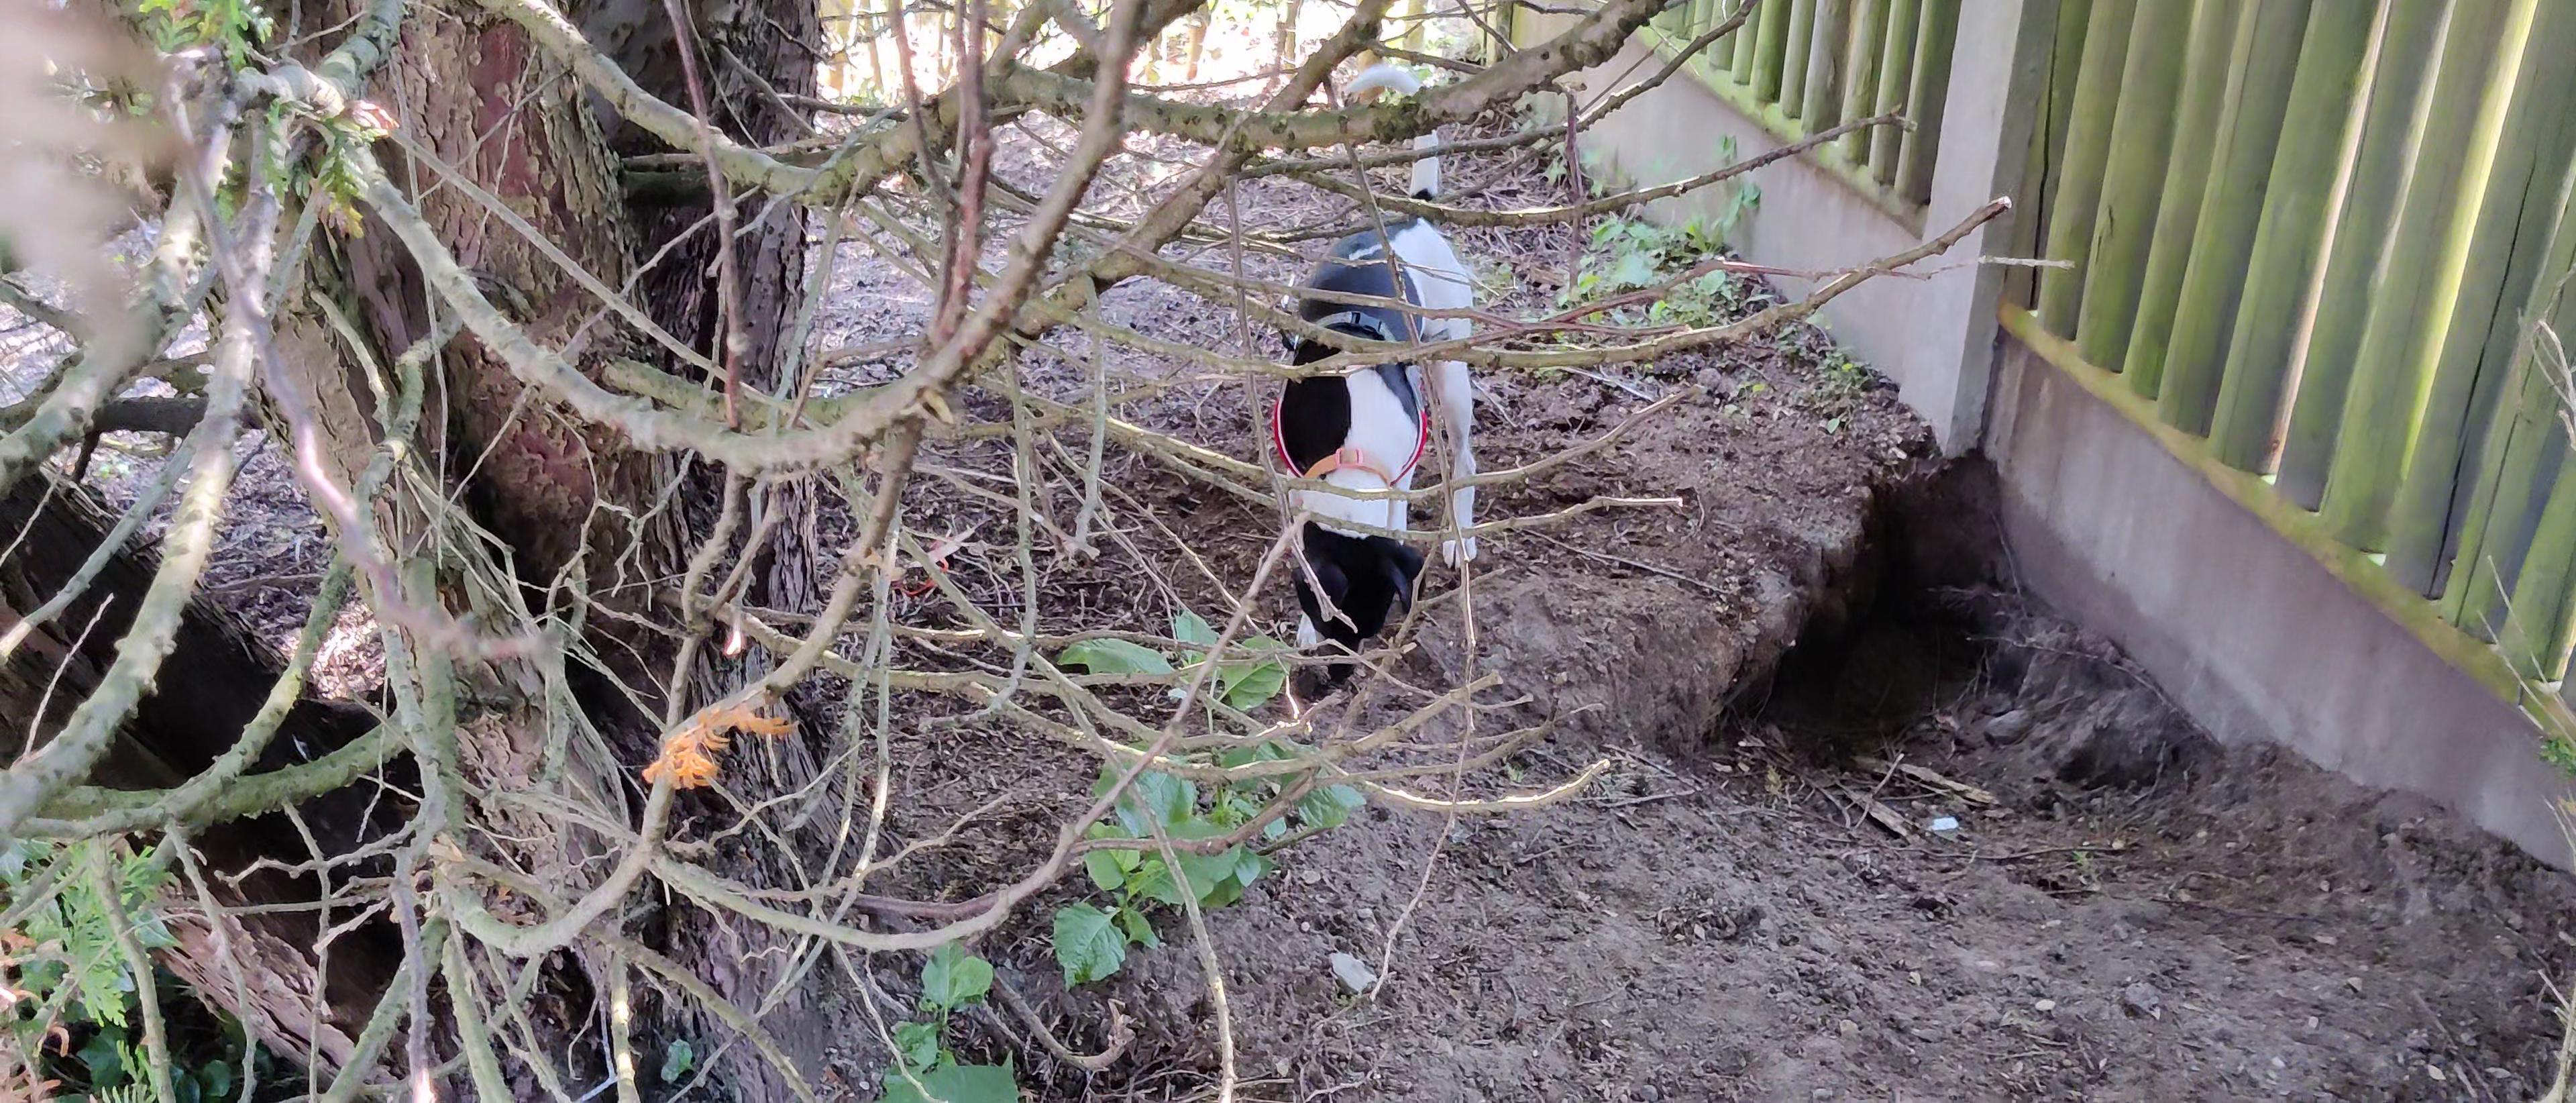Dog: (1258, 56, 1503, 695)
